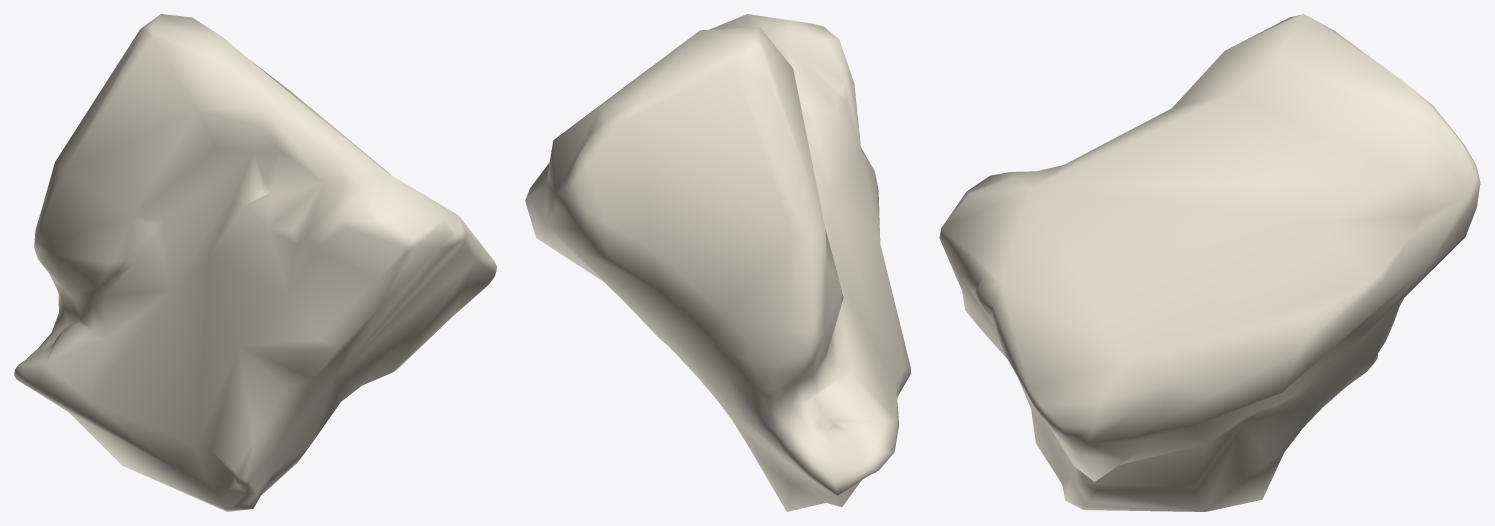
The picture shows the model from 3 angles, left to right: view 1: azimuth 30°, elevation 25°; view 2: azimuth 150°, elevation 25°; view 3: azimuth 270°, elevation 25°; orthographic projection. The views are drawn at different scales.
Parts seen in each view (by area): view 1: ZA_1ccf65805c9a549a; view 2: ZA_1ccf65805c9a549a; view 3: ZA_1ccf65805c9a549a.
Part boxes in pixels (<box>): ZA_1ccf65805c9a549a: <box>14,14,496,511</box>; ZA_1ccf65805c9a549a: <box>525,14,910,511</box>; ZA_1ccf65805c9a549a: <box>939,14,1480,511</box>.
Size of the model in its own units: 0.0242 by 0.0269 by 0.0265.
